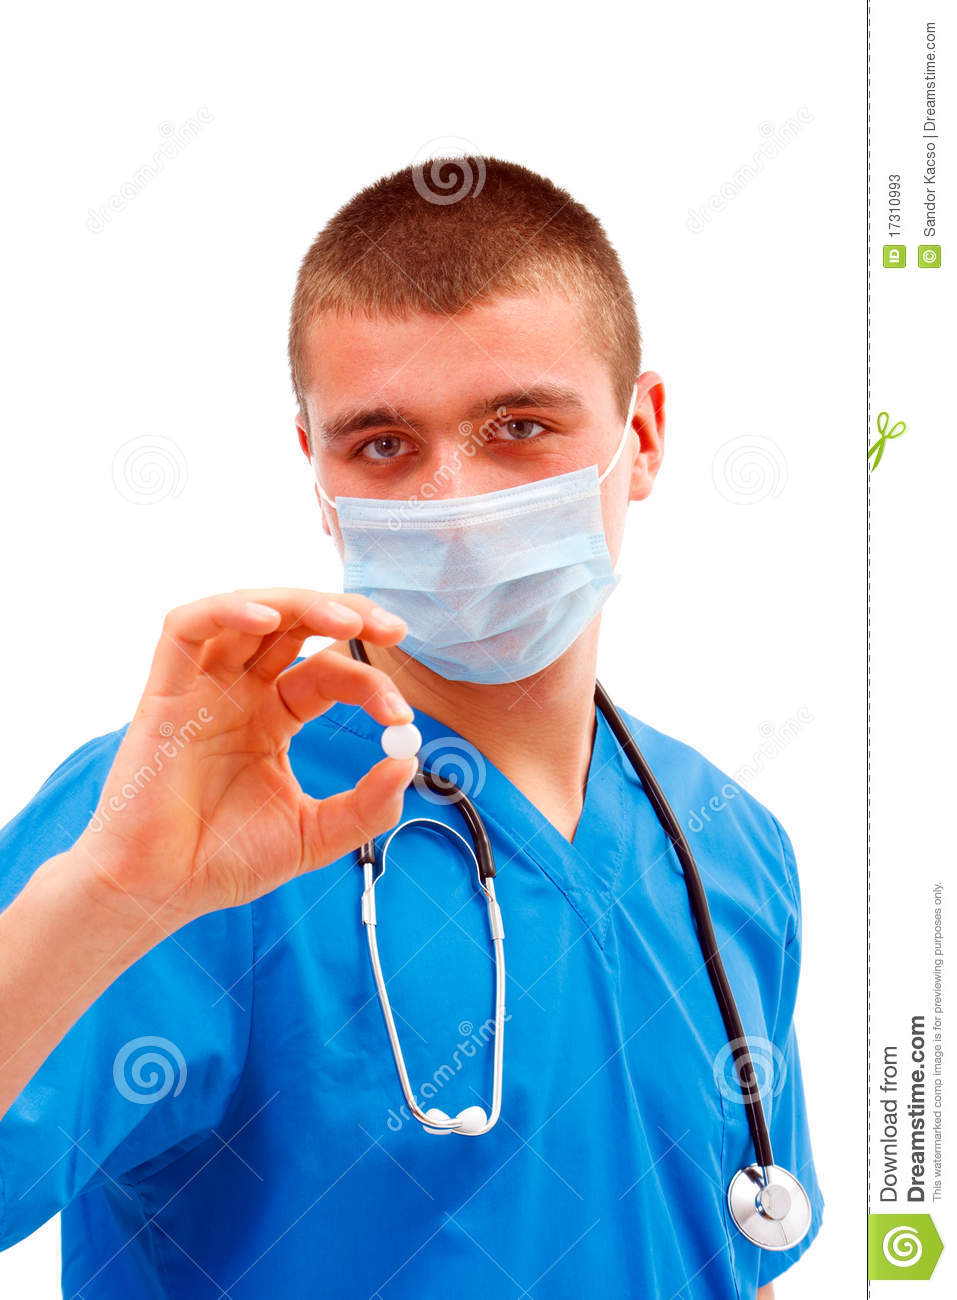mask: (300, 475, 622, 689)
